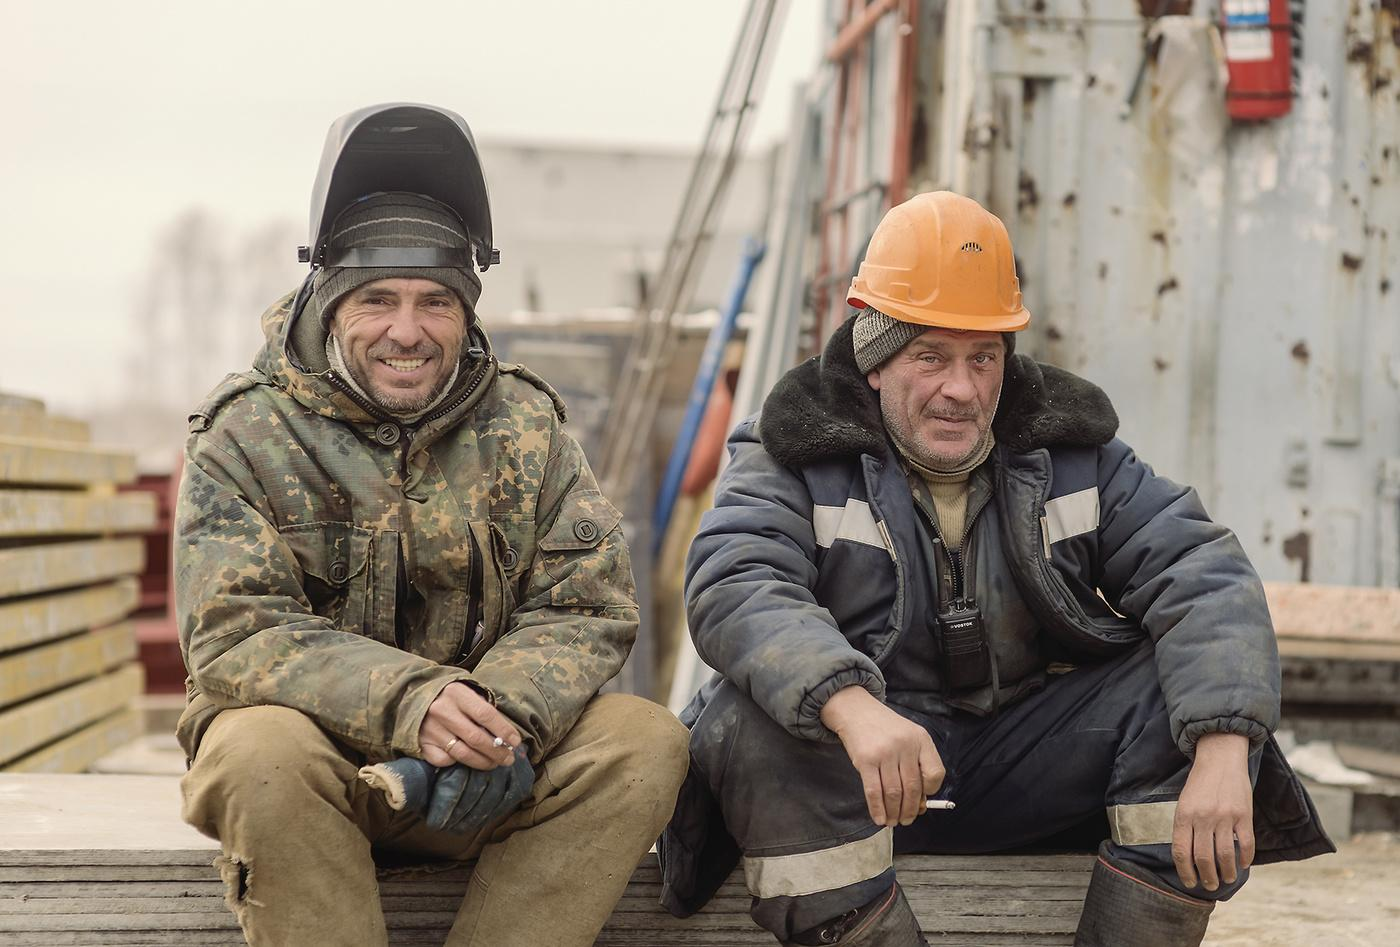cigarette: (919, 800, 956, 809), (493, 737, 504, 747)
